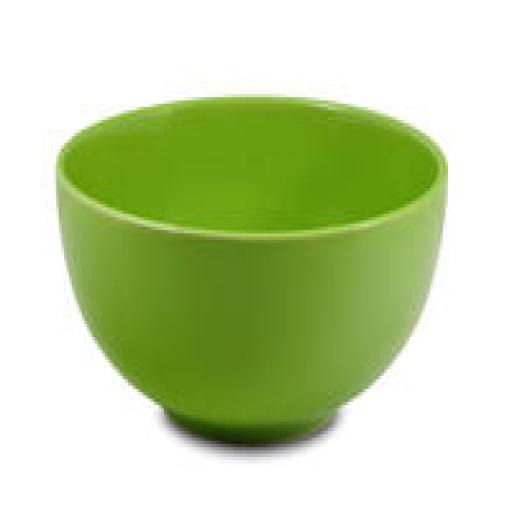Bowl: (59, 97, 445, 441)
